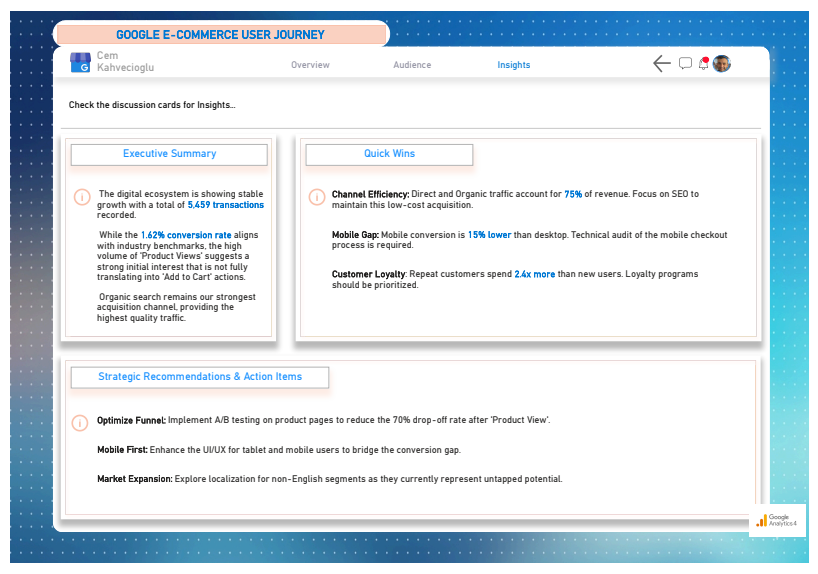

The dashboard page shown, as its layout file describes it:
{"tool":"powerbi","page":{"name":"Insights","canvas":[1450,1000],"ordinal":2},"visuals":[{"type":"shape","box":[77.6,75.5,1302,869.4],"z":0},{"type":"shape","box":[77.8,63,1301.9,55.6],"z":1000},{"type":"textbox","box":[102,155.1,353.1,46.9],"z":2000},{"type":"image","box":[102.6,70.3,51,47.1],"z":3000},{"type":"textbox","box":[153.7,63,164.8,63],"z":4000},{"type":"image","box":[1209.9,73.3,32.3,41.9],"z":5000},{"type":"shape","box":[92.2,201.9,1271.8,20.4],"z":6000},{"type":"image","box":[1242.1,73.3,32.3,41.9],"z":7000},{"type":"shape","box":[1258,82.1,12.4,12],"z":8000},{"type":"image","box":[1270.5,74.1,40.6,40.3],"z":9000},{"type":"shape","box":[77.6,16.3,611.8,49],"z":9500,"group":"g1"},{"type":"textbox","box":[112.9,24.1,539.2,35.3],"z":9750,"group":"g1"},{"type":"shape","box":[1276.4,79.1,30.6,31.2],"z":10000},{"type":"pageNavigator","box":[453.6,75,555.4,42.9],"z":11000},{"type":"actionButton","box":[1163,74.1,46.3,42.6],"z":12000},{"type":"shape","box":[92.5,222.5,391.2,376.2],"z":13000},{"type":"textbox","box":[111.1,240.7,357.4,38.9],"z":14000},{"type":"textbox","box":[154,317,315,263],"z":15000},{"type":"actionButton","box":[111,317,43,41],"z":16000},{"type":"shape","box":[517.5,222.2,846,376.2],"z":17000},{"type":"textbox","box":[580,317,732,72],"z":18000},{"type":"textbox","box":[537,240.7,303.7,38.9],"z":19000},{"type":"textbox","box":[580,389,732,72],"z":20000},{"type":"textbox","box":[580,461,732,59],"z":21000},{"type":"actionButton","box":[537,317,43,41],"z":22000},{"type":"shape","box":[92.1,623.8,1271.4,296.8],"z":23000},{"type":"textbox","box":[153.7,725.9,1157.4,177.8],"z":24000},{"type":"textbox","box":[111.1,644.4,468.5,38.9],"z":25000},{"type":"actionButton","box":[105.6,725.9,42.6,40.7],"z":26000},{"type":"image","box":[1337.5,846.4,112.5,153.6],"z":27000},{"type":"group","id":"g1","title":"Group 4","box":[77.6,16.3,610.2,49],"z":28000}]}

Visuals, with their boxes in screenshot pixels (x1, y1, x2, y2), scaled from the page's 1450x1000 canvas onto the 818x574 screenshot:
shape: rect(44, 43, 778, 542)
shape: rect(44, 36, 778, 68)
textbox: rect(58, 89, 257, 116)
image: rect(58, 40, 87, 67)
textbox: rect(87, 36, 180, 72)
image: rect(683, 42, 701, 66)
shape: rect(52, 116, 769, 128)
image: rect(701, 42, 719, 66)
shape: rect(710, 47, 717, 54)
image: rect(717, 43, 740, 66)
shape: rect(44, 9, 389, 37)
textbox: rect(64, 14, 368, 34)
shape: rect(720, 45, 737, 63)
pageNavigator: rect(256, 43, 569, 68)
actionButton: rect(656, 43, 682, 67)
shape: rect(52, 128, 273, 344)
textbox: rect(63, 138, 264, 160)
textbox: rect(87, 182, 265, 333)
actionButton: rect(63, 182, 87, 205)
shape: rect(292, 128, 769, 343)
textbox: rect(327, 182, 740, 223)
textbox: rect(303, 138, 474, 160)
textbox: rect(327, 223, 740, 265)
textbox: rect(327, 265, 740, 298)
actionButton: rect(303, 182, 327, 205)
shape: rect(52, 358, 769, 528)
textbox: rect(87, 417, 740, 519)
textbox: rect(63, 370, 327, 392)
actionButton: rect(60, 417, 84, 440)
image: rect(755, 486, 817, 573)
"Group 4" group: rect(44, 9, 388, 37)
